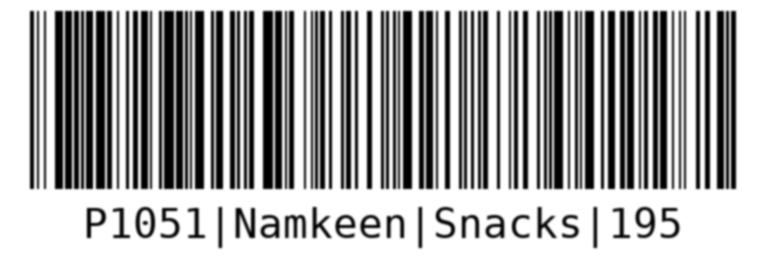milk: (20, 9, 742, 251)
